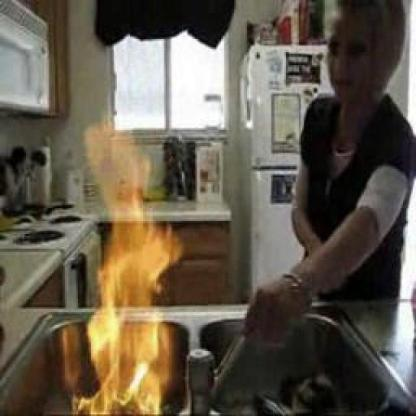fire: (83, 121, 179, 416)
